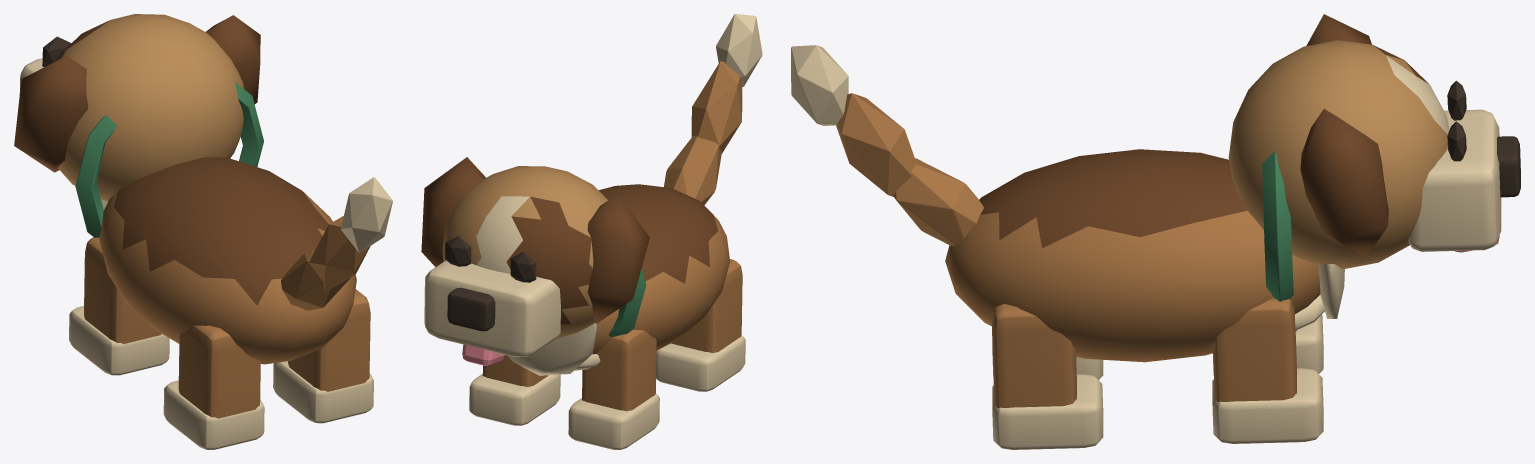
File: Dog.glb
3 renders of one model, left to right at view 1: azimuth 30°, elevation 25°; view 2: azimuth 150°, elevation 25°; view 3: azimuth 270°, elevation 25°, orthographic. The views are drawn at different scales.
Visible parts, largest first — view 1: Dog_Body, Dog_Head, Dog_Leg_RL, Dog_Ear_L, Dog_Leg_RR, Dog_Collar, Dog_Leg_FL, Dog_Paw_RL, Dog_Paw_FL, Dog_Paw_RR, Dog_Tail_Tip, Dog_Ear_R (+3 smaller); view 2: Dog_Head, Dog_Body, Dog_Muzzle, Dog_Ear_L, Dog_Leg_FL, Dog_Paw_FL, Dog_Paw_FR, Dog_Paw_RL, Dog_Tail_Mid, Dog_Ear_R, Dog_Leg_RL, Dog_Tail_Base (+8 smaller); view 3: Dog_Body, Dog_Head, Dog_Muzzle, Dog_Ear_R, Dog_Leg_RR, Dog_Leg_FR, Dog_Paw_FR, Dog_Paw_RR, Dog_Tail_Mid, Dog_Tail_Base, Dog_Tail_Tip, Dog_Collar (+4 smaller).
Boxes of the visible parts, left/top/right/bottom form: Dog_Body: left=99, top=157, right=356, bottom=364; Dog_Head: left=55, top=14, right=243, bottom=201; Dog_Leg_RL: left=178, top=325, right=260, bottom=418; Dog_Ear_L: left=14, top=56, right=88, bottom=172; Dog_Leg_RR: left=288, top=289, right=370, bottom=391; Dog_Collar: left=75, top=82, right=263, bottom=237; Dog_Leg_FL: left=84, top=237, right=161, bottom=343; Dog_Paw_RL: left=163, top=380, right=264, bottom=449; Dog_Paw_FL: left=69, top=306, right=169, bottom=375; Dog_Paw_RR: left=273, top=361, right=373, bottom=423; Dog_Tail_Tip: left=341, top=177, right=392, bottom=252; Dog_Ear_R: left=206, top=15, right=260, bottom=104; Dog_Head: left=442, top=166, right=607, bottom=339; Dog_Body: left=592, top=184, right=729, bottom=354; Dog_Muzzle: left=424, top=260, right=560, bottom=356; Dog_Ear_L: left=587, top=194, right=649, bottom=323; Dog_Leg_FL: left=582, top=329, right=656, bottom=411; Dog_Paw_FL: left=568, top=394, right=659, bottom=449; Dog_Paw_FR: left=469, top=374, right=560, bottom=425; Dog_Paw_RL: left=656, top=335, right=745, bottom=391; Dog_Tail_Mid: left=691, top=61, right=742, bottom=153; Dog_Ear_R: left=421, top=157, right=485, bottom=266; Dog_Leg_RL: left=671, top=259, right=742, bottom=352; Dog_Tail_Base: left=664, top=135, right=721, bottom=205; Dog_Body: left=945, top=149, right=1320, bottom=362; Dog_Head: left=1228, top=40, right=1449, bottom=268; Dog_Muzzle: left=1408, top=109, right=1501, bottom=251; Dog_Ear_R: left=1300, top=109, right=1388, bottom=257; Dog_Leg_RR: left=992, top=304, right=1076, bottom=407; Dog_Leg_FR: left=1213, top=298, right=1296, bottom=402; Dog_Paw_FR: left=1212, top=368, right=1323, bottom=443; Dog_Paw_RR: left=992, top=374, right=1103, bottom=449; Dog_Tail_Mid: left=836, top=93, right=916, bottom=196; Dog_Tail_Base: left=893, top=158, right=983, bottom=246; Dog_Tail_Tip: left=791, top=45, right=848, bottom=125; Dog_Collar: left=1262, top=151, right=1293, bottom=301.
Bounding box in the file's own units: 0.6969 × 0.8728 × 1.59.
